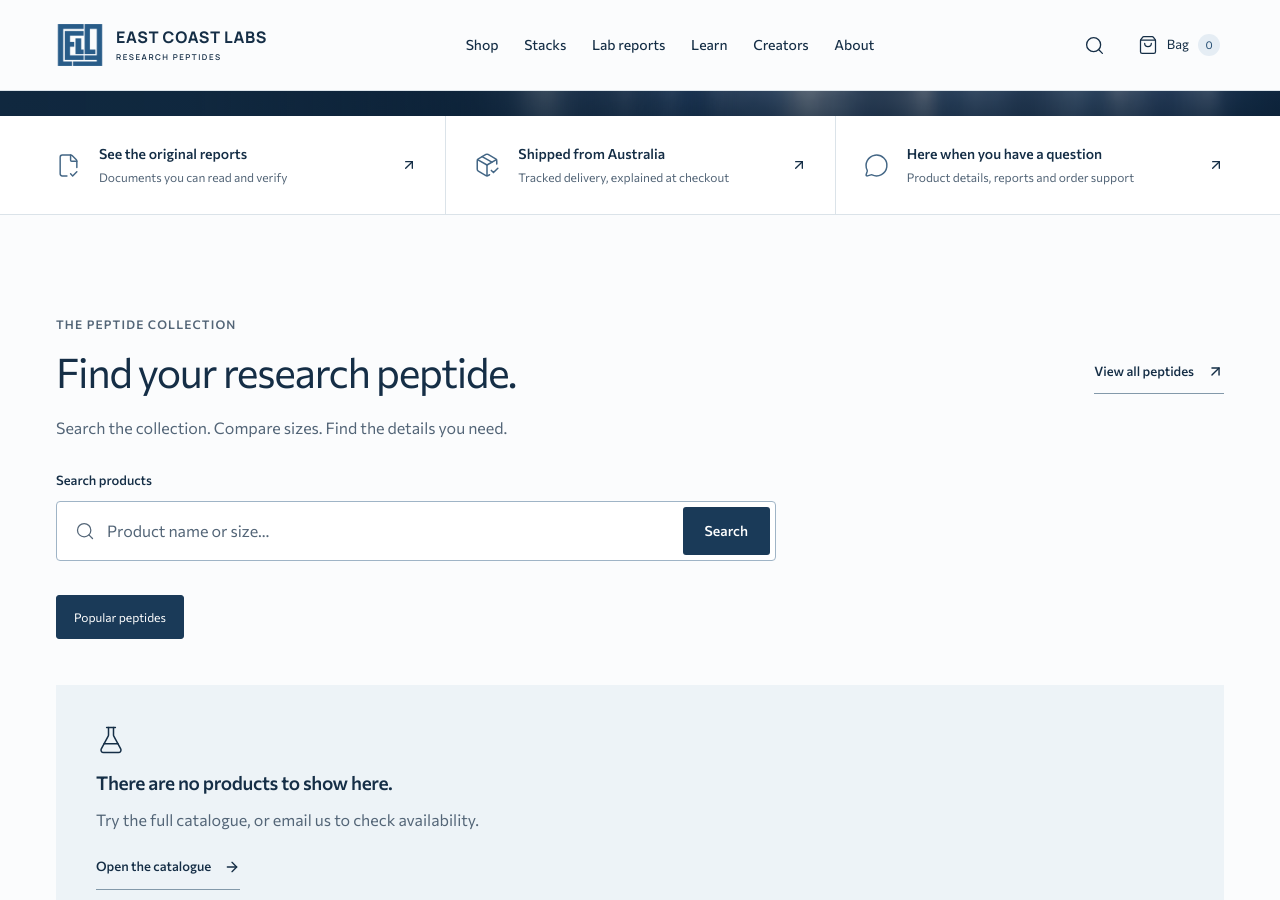
Test case: distinguishes an unavailable catalogue from an unmatched query
The image size is (1280, 900).
(page scrolled)
Focus the dropdown labelled "Search products" at {"x": 389, "y": 531}, box left=107, top=509, right=671, bottom=553
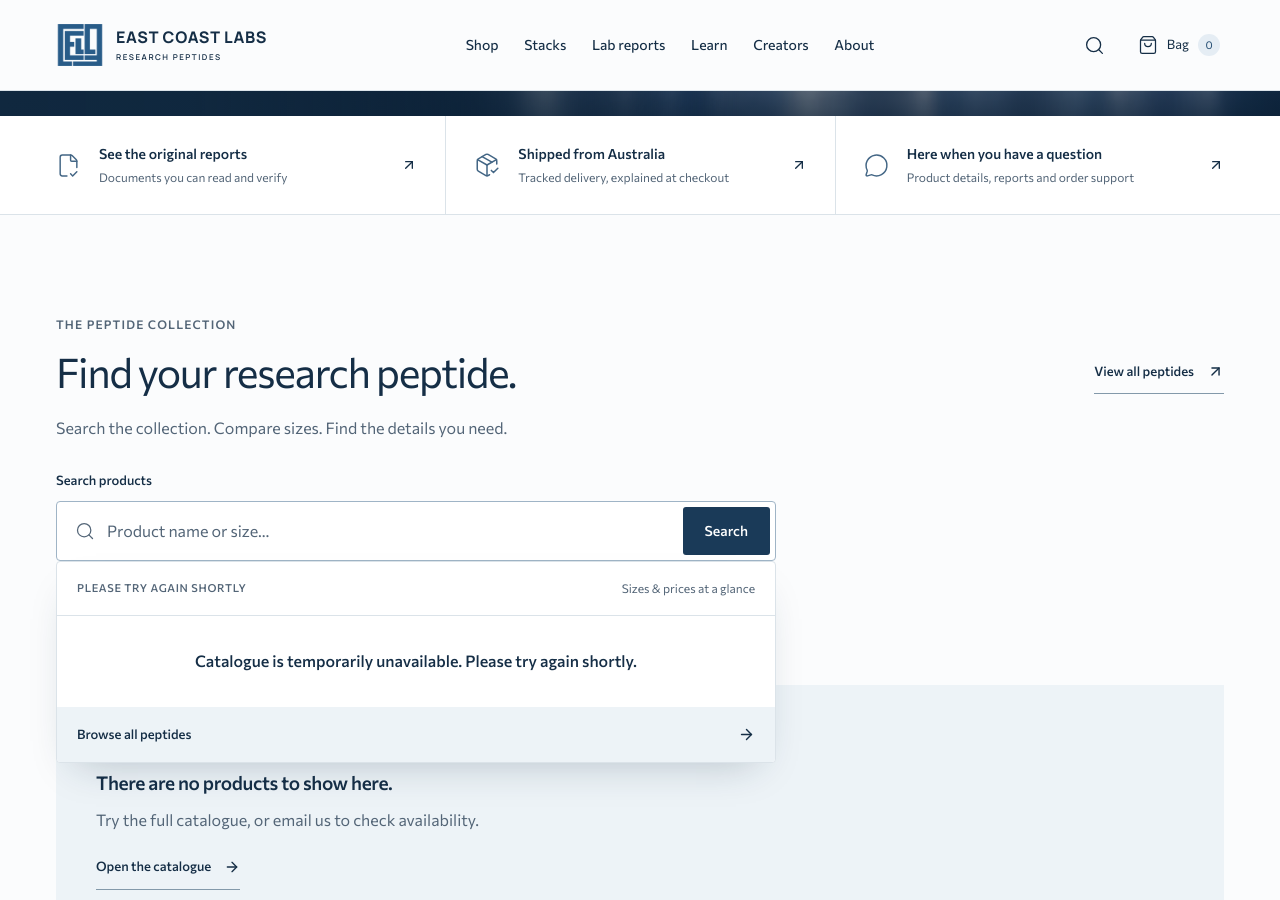
Result: the text "Catalogue is temporarily unavailable" is shown at left=195, top=651, right=637, bottom=670
